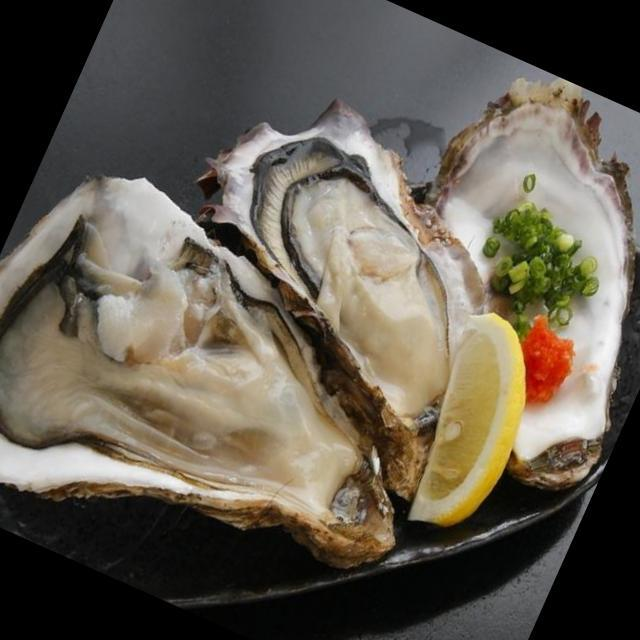Oyster-Open: (0, 132, 495, 640), (101, 42, 571, 512), (403, 75, 640, 499)
